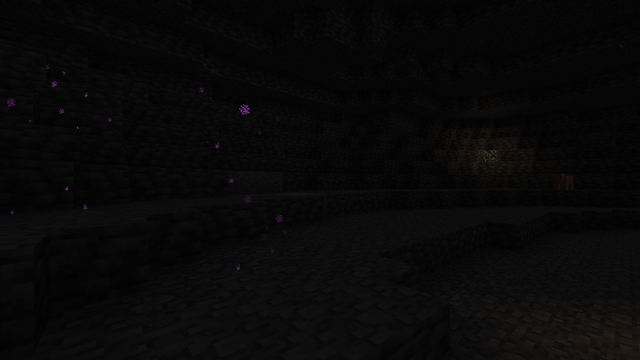cochons: (551, 175, 573, 190)
